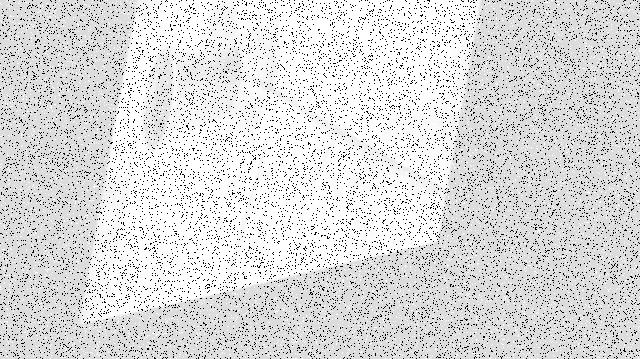pot: (143, 42, 242, 147)
